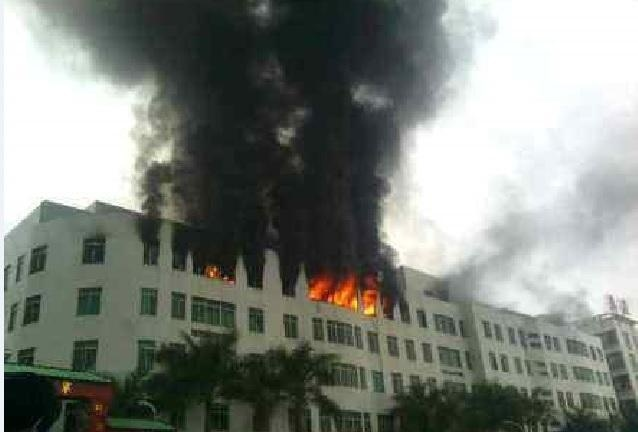fire: (309, 270, 383, 313), (204, 260, 232, 281)
